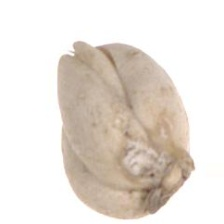L1: (59, 39, 124, 86), (150, 154, 190, 212)
L2: (56, 38, 194, 219)
